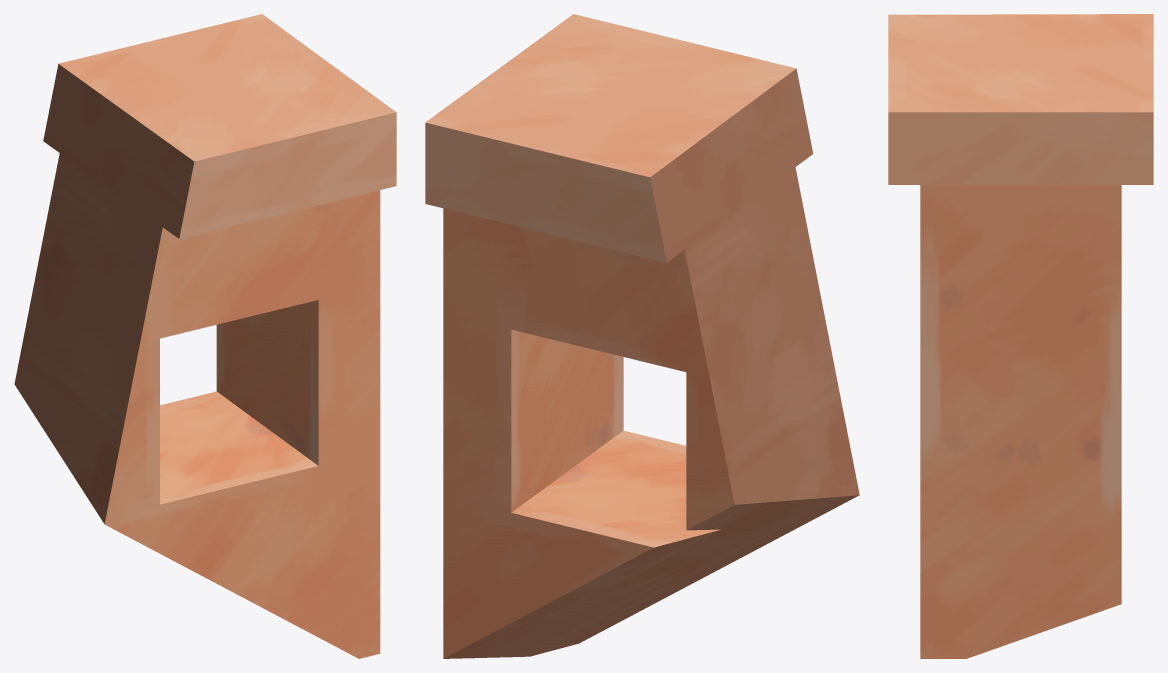
The model's file is parapet_pierced_s02.fbx.
The picture shows the model from 3 angles, left to right: view 1: azimuth 30°, elevation 25°; view 2: azimuth 150°, elevation 25°; view 3: azimuth 270°, elevation 25°; orthographic projection. The views are drawn at different scales.
Visible parts, largest first — view 1: parapet_pierced_s02; view 2: parapet_pierced_s02; view 3: parapet_pierced_s02.
Boxes of the visible parts, box(x1,y1,x2,y2) form: parapet_pierced_s02: box(14, 14, 396, 658); parapet_pierced_s02: box(425, 14, 859, 658); parapet_pierced_s02: box(888, 14, 1153, 658).
Size of the model in its own units: 1.56 by 3 by 1.32.
